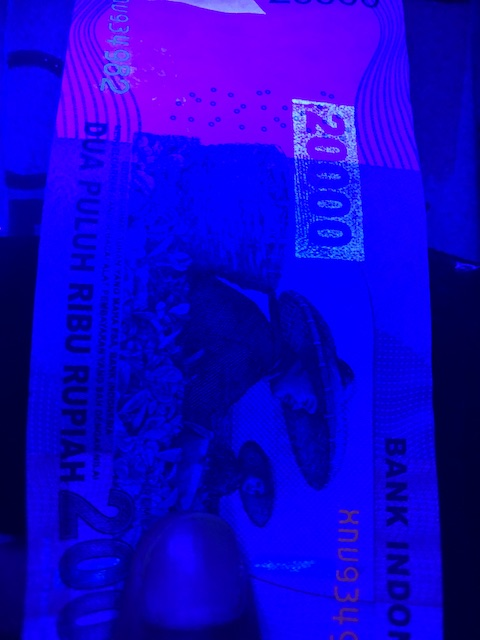20_RIBU_ASLI: (289, 88, 375, 264)
